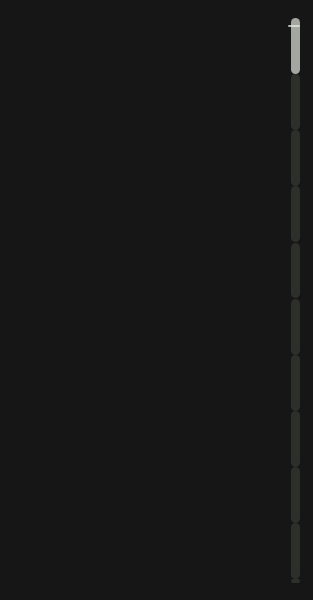
a rail longer than it can show › opens a folded run instead of guessing which question it stands for
The width and height of the screenshot is (313, 600).
Click the 1st button with class "srail-m". click: (290, 46)
box: [277, 14, 303, 78]
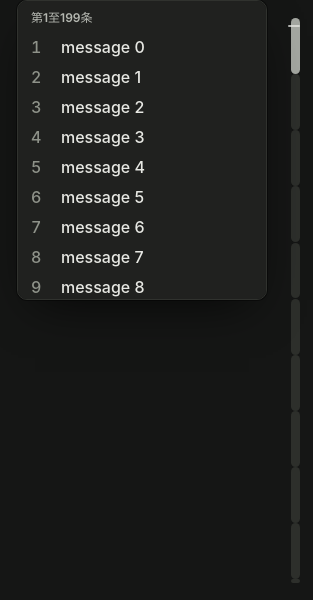
Now the text "2" is shown, box [31, 67, 41, 87]
Click the button with class "srail-subrow" showing "2 message 1". click: (142, 78)
box: [23, 63, 261, 93]
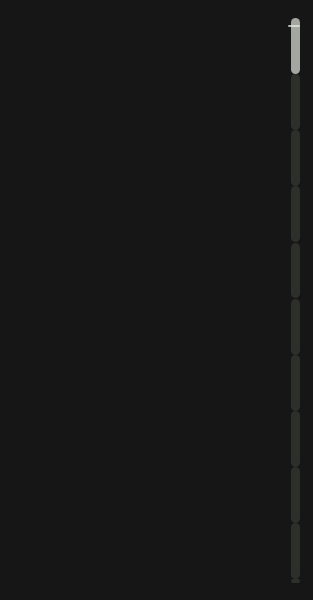
Now the element with class "srail-sub" is gone
